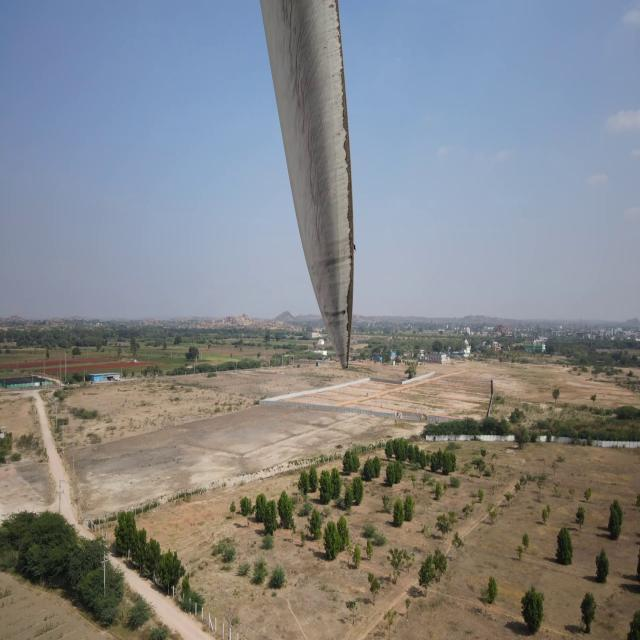Dirt: (260, 0, 358, 372)
Pin Hole: (328, 0, 338, 13), (335, 309, 350, 317)
